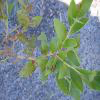Blueberry leaf: (67, 64, 86, 96), (71, 16, 94, 37), (18, 58, 38, 79), (45, 56, 60, 83), (47, 29, 60, 54), (53, 17, 66, 41), (67, 0, 78, 27), (76, 1, 94, 17), (57, 72, 68, 97), (66, 50, 82, 67), (25, 15, 44, 29), (75, 63, 95, 76), (58, 59, 68, 80), (63, 36, 77, 49), (41, 41, 49, 59), (27, 38, 39, 50), (18, 35, 27, 46)
